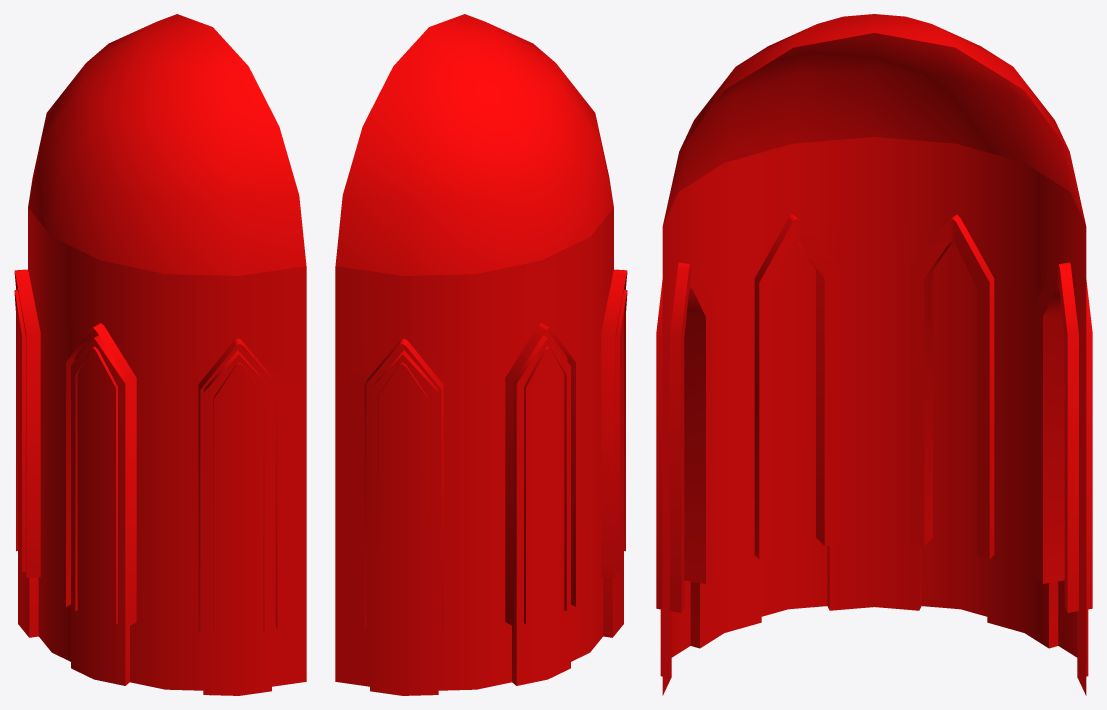
The model's file is part_3_props_mesh_00.fbx.
The picture shows the model from 3 angles, left to right: view 1: azimuth 30°, elevation 25°; view 2: azimuth 150°, elevation 25°; view 3: azimuth 270°, elevation 25°; orthographic projection. The views are drawn at different scales.
Parts seen in each view (by area): view 1: part_3_props_mesh_00; view 2: part_3_props_mesh_00; view 3: part_3_props_mesh_00.
Boxes of the visible parts, left/top/right/bottom form: part_3_props_mesh_00: left=14, top=14, right=306, bottom=695; part_3_props_mesh_00: left=335, top=14, right=627, bottom=695; part_3_props_mesh_00: left=656, top=14, right=1092, bottom=695.
Size of the model in its own units: 5.18 by 17.4 by 10.37.
